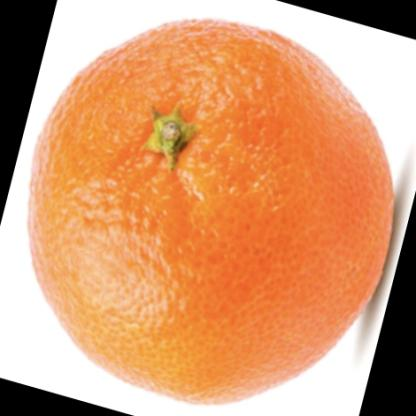fresh: (32, 21, 397, 404)
